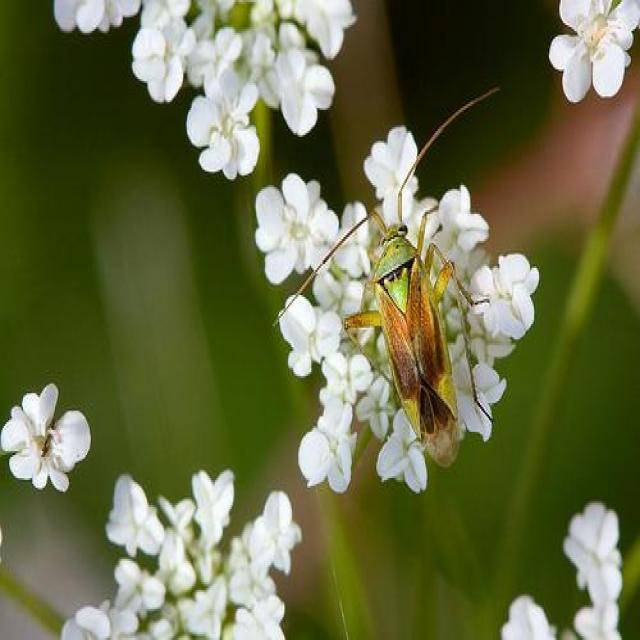Miridae-Adult-: (278, 84, 508, 472)
